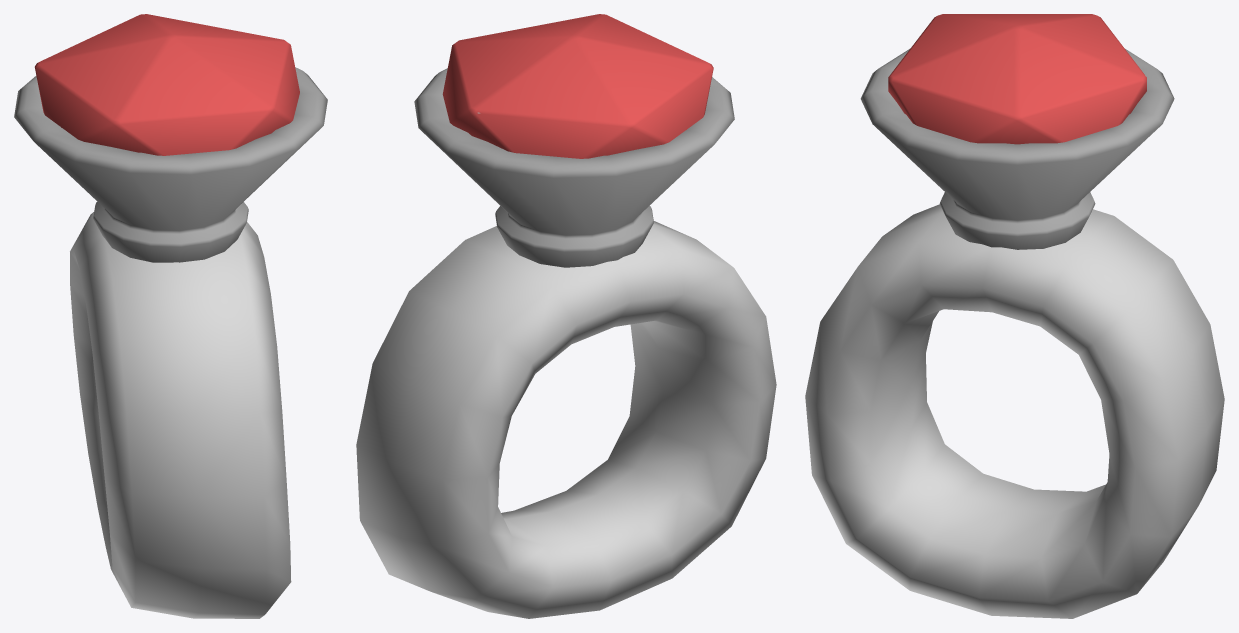
The model's file is ring 3.fbx.
3 views of the same model, side by side, from view 1: azimuth 30°, elevation 25°; view 2: azimuth 150°, elevation 25°; view 3: azimuth 270°, elevation 25° (orthographic). The views are drawn at different scales.
Visible parts, largest first — view 1: Ring3; view 2: Ring3; view 3: Ring3.
Part boxes in pixels (bbox=[...]): Ring3: bbox=[14, 14, 327, 618]; Ring3: bbox=[356, 14, 776, 618]; Ring3: bbox=[805, 14, 1224, 618].
Bounding box in the file's own units: 6.22 × 9.09 × 4.78.
